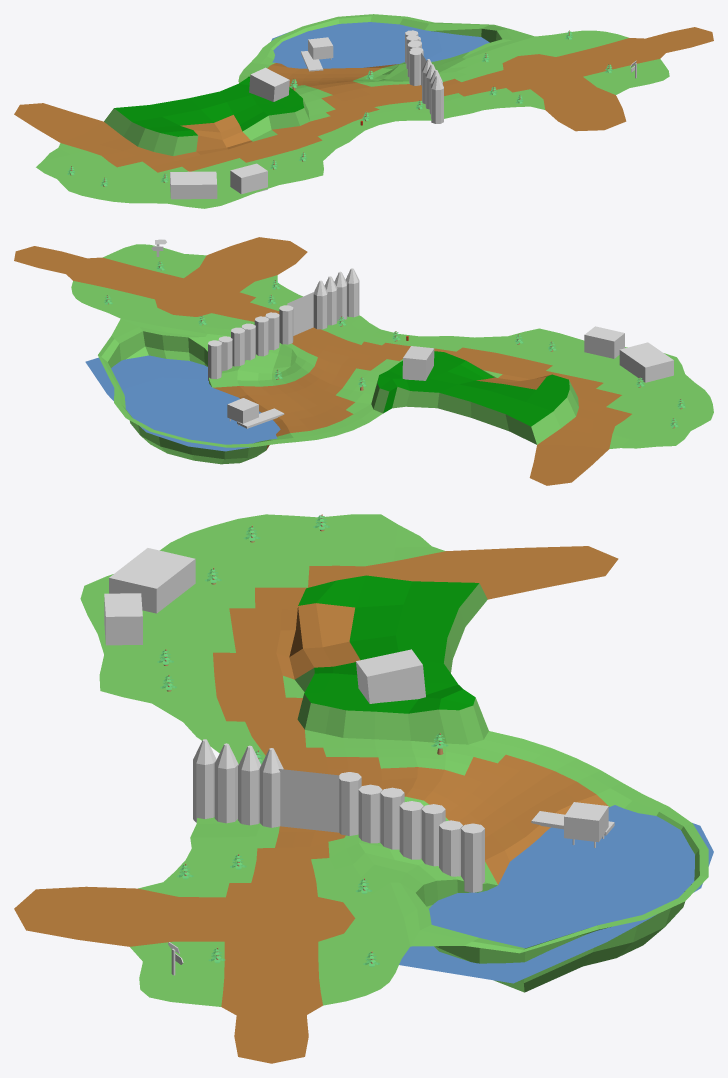
File: hutan_aman.fbx
3 renders of one model, top to bottom at view 1: azimuth 30°, elevation 25°; view 2: azimuth 150°, elevation 25°; view 3: azimuth 270°, elevation 25°, orthographic. The views are drawn at different scales.
Parts seen in each view (by area): view 1: Plane.001, Plane, Cube.002, Cube.006, Cube.003, Cylinder.005, Cube.001, Cylinder.010; view 2: Plane.001, Plane, Cube.002, Cube.003, Cube.006, Plane.002, Cylinder.008, Cube.001, Cylinder.005, Cylinder.010, Cylinder.015, Cylinder.014 (+5 smaller); view 3: Plane.001, Plane, Cube.002, Plane.002, Cube.006, Cube.003, Cylinder.006, Cylinder.005, Cylinder.007, Cylinder.008, Cylinder.015, Cube.001 (+6 smaller).
Boxes of the visible parts, bbox=[...] form: Plane.001: bbox=[14, 14, 713, 208]; Plane: bbox=[271, 22, 489, 68]; Cube.002: bbox=[170, 171, 217, 199]; Cube.006: bbox=[249, 67, 289, 101]; Cube.003: bbox=[230, 163, 267, 194]; Cylinder.005: bbox=[431, 75, 443, 123]; Cube.001: bbox=[308, 37, 333, 59]; Cylinder.010: bbox=[409, 49, 422, 85]; Plane.001: bbox=[14, 237, 713, 485]; Plane: bbox=[85, 355, 280, 451]; Cube.002: bbox=[619, 342, 673, 382]; Cube.003: bbox=[584, 326, 624, 358]; Cube.006: bbox=[402, 346, 434, 380]; Plane.002: bbox=[287, 292, 314, 335]; Cylinder.008: bbox=[313, 280, 327, 329]; Cube.001: bbox=[227, 398, 258, 423]; Cylinder.005: bbox=[345, 268, 359, 317]; Cylinder.010: bbox=[279, 305, 293, 344]; Cylinder.015: bbox=[208, 340, 222, 380]; Cylinder.014: bbox=[231, 327, 245, 366]; Plane.001: bbox=[14, 514, 708, 1063]; Plane: bbox=[399, 805, 713, 983]; Cube.002: bbox=[109, 548, 195, 613]; Plane.002: bbox=[278, 769, 339, 832]; Cube.006: bbox=[356, 649, 425, 703]; Cube.003: bbox=[104, 593, 142, 645]; Cylinder.006: bbox=[214, 743, 238, 823]; Cylinder.005: bbox=[193, 739, 216, 822]; Cylinder.007: bbox=[238, 745, 260, 825]; Cylinder.008: bbox=[259, 748, 283, 827]; Cylinder.015: bbox=[461, 823, 484, 892]; Cube.001: bbox=[564, 802, 608, 842].
Size of the model in its own units: 12718 by 1670 by 6832.
